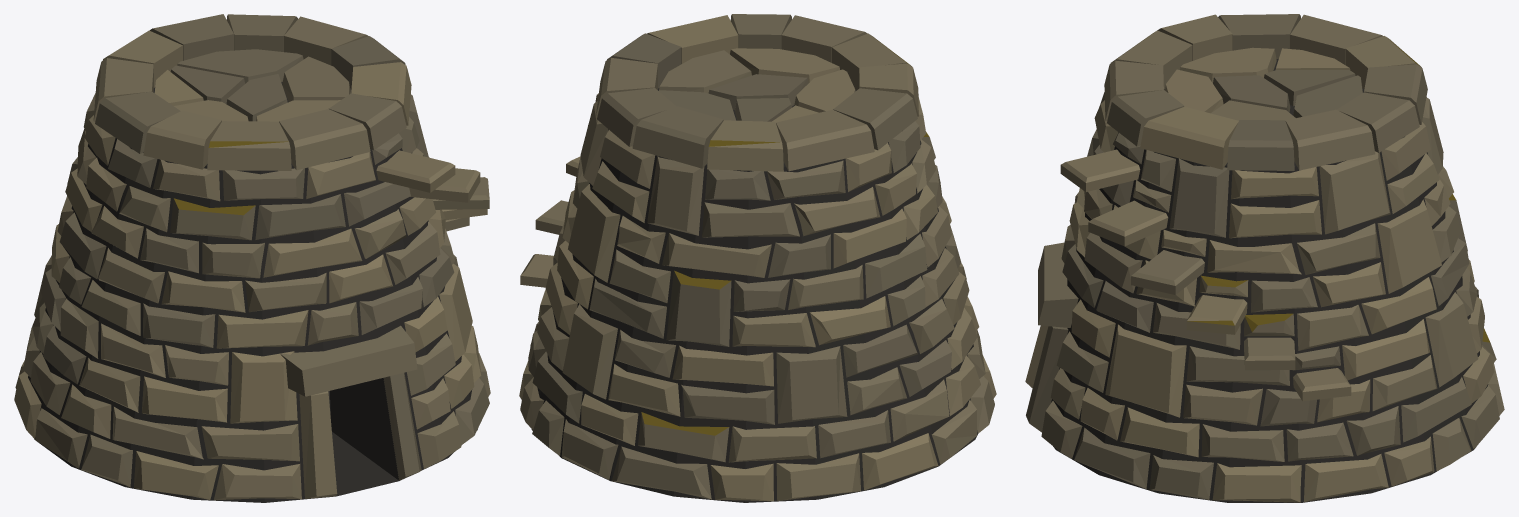
The model's file is tupa-stone-tower-801c13.glb.
3 views of the same model, side by side, from view 1: azimuth 30°, elevation 25°; view 2: azimuth 150°, elevation 25°; view 3: azimuth 270°, elevation 25° (orthographic).
Parts seen in each view (by area): view 1: tower; view 2: tower; view 3: tower.
Boxes of the visible parts, x1,y1,x2,y2 form: tower: [14, 14, 490, 502]; tower: [519, 14, 996, 502]; tower: [1025, 14, 1504, 502].
Bounding box in the file's own units: 3.96 × 3 × 3.96.
